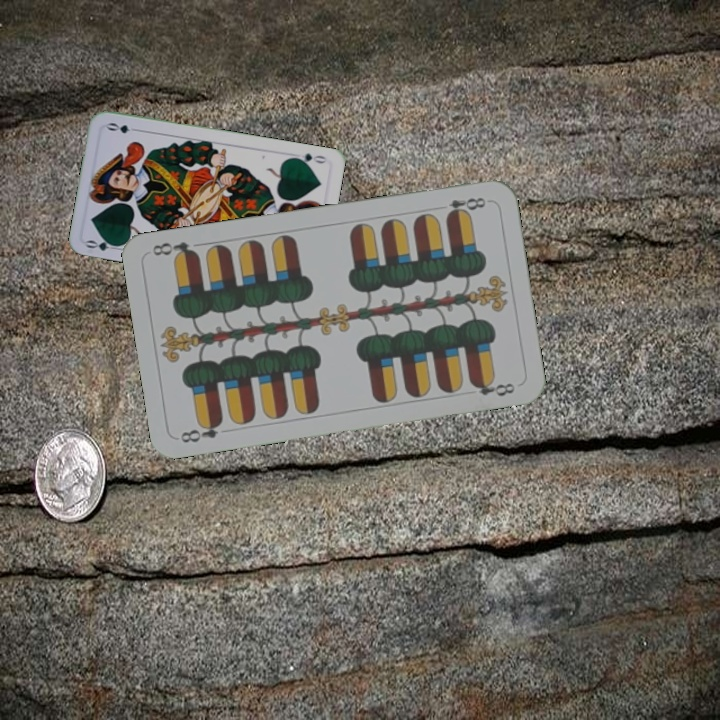E8: (176, 416, 226, 446), (442, 193, 492, 220)
GO: (82, 234, 124, 253), (288, 149, 329, 167)
